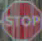Stop: (0, 0, 37, 40)
